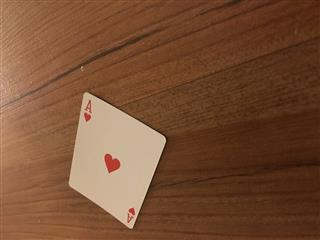AceOfHearts: (67, 91, 167, 228)
